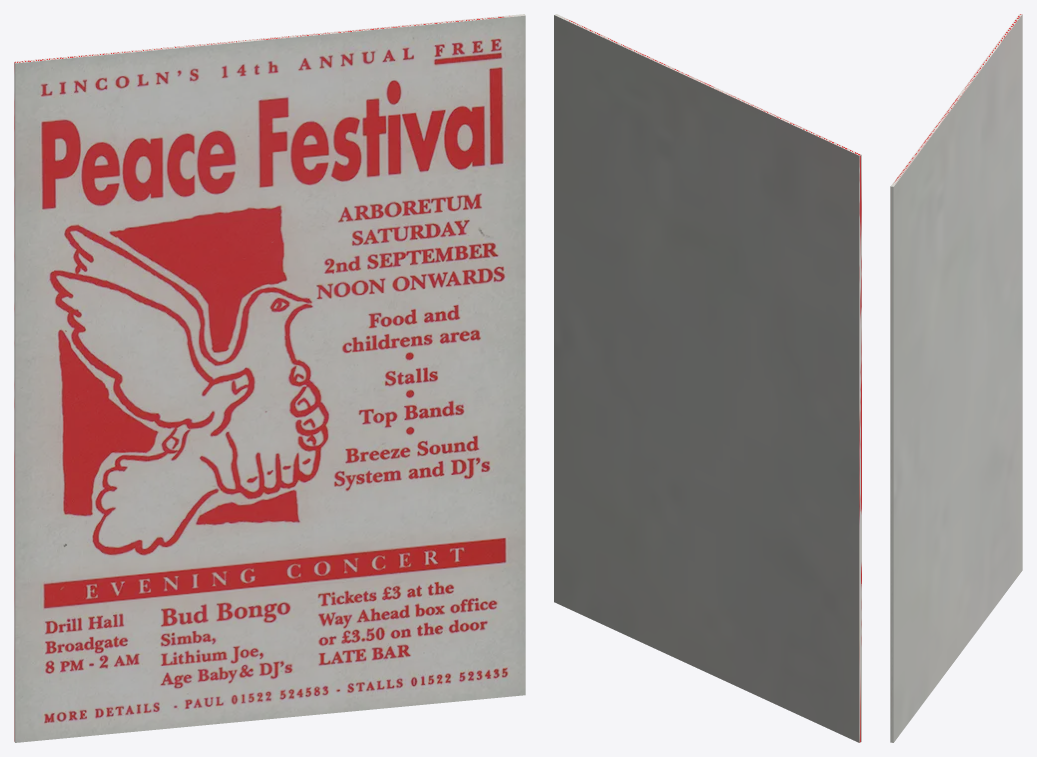
Rendered from peace_festival.glb.
3 views of the same model, side by side, from view 1: azimuth 30°, elevation 25°; view 2: azimuth 150°, elevation 25°; view 3: azimuth 270°, elevation 25° (orthographic). The views are drawn at different scales.
Visible parts, largest first — view 1: Poster1.005; view 2: Poster1.005; view 3: Poster1.005.
Part boxes in pixels (x1,y1,x2,y2): Poster1.005: [14, 14, 525, 742]; Poster1.005: [554, 14, 861, 742]; Poster1.005: [890, 14, 1022, 742].
Bounding box in the file's own units: 0.2224 × 0.3336 × 0.0718.
Materials: 1 (1 with a texture image).
